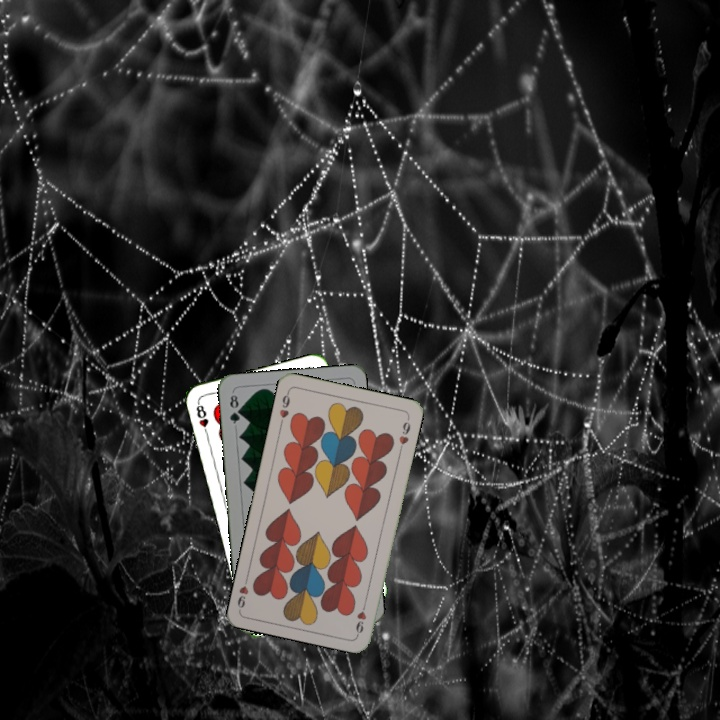G8: (225, 389, 243, 426)
H8: (192, 398, 211, 438)
H9: (275, 387, 292, 427), (352, 597, 369, 637)
